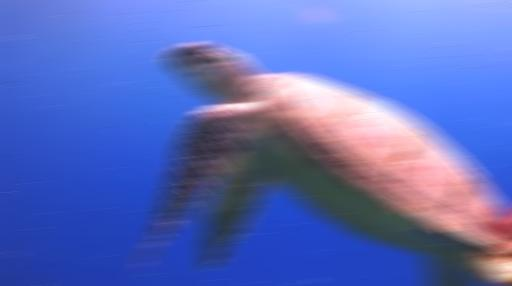Fish: (138, 42, 511, 285)
